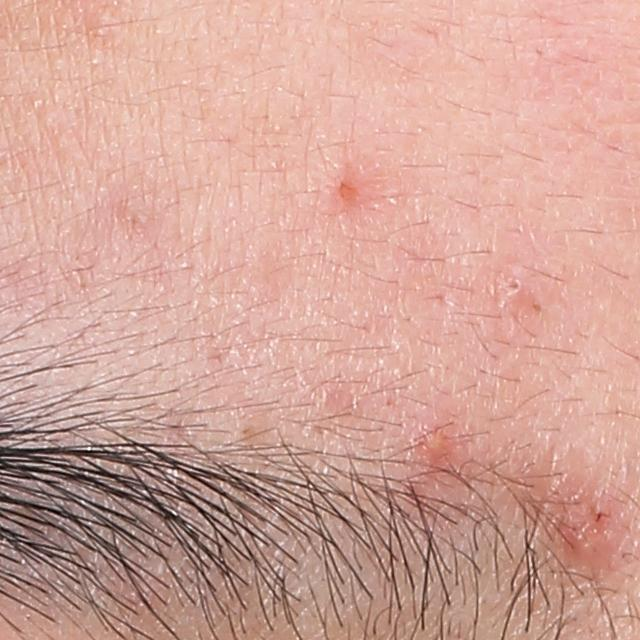comedo: (498, 268, 524, 301)
papule: (562, 509, 611, 566)
